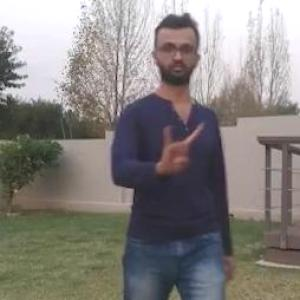takeoff-hand: (160, 118, 205, 174)
